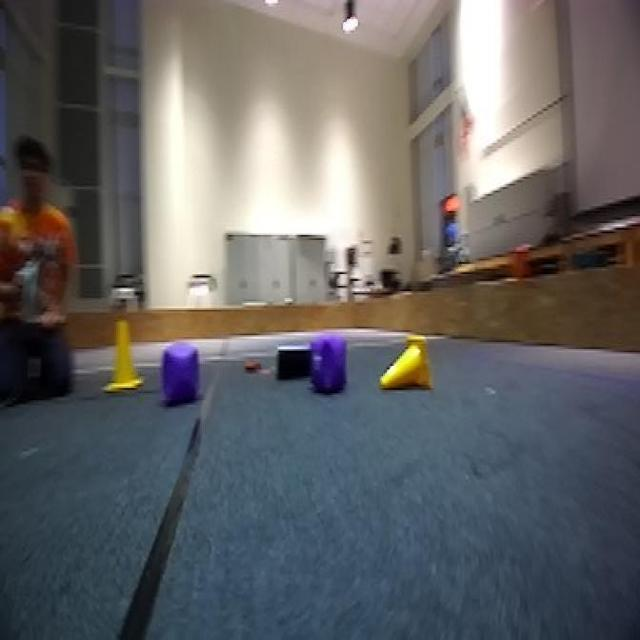frc_cone: (377, 328, 435, 402), (103, 310, 146, 393)
frc_cube: (161, 334, 201, 414), (308, 330, 350, 397)
